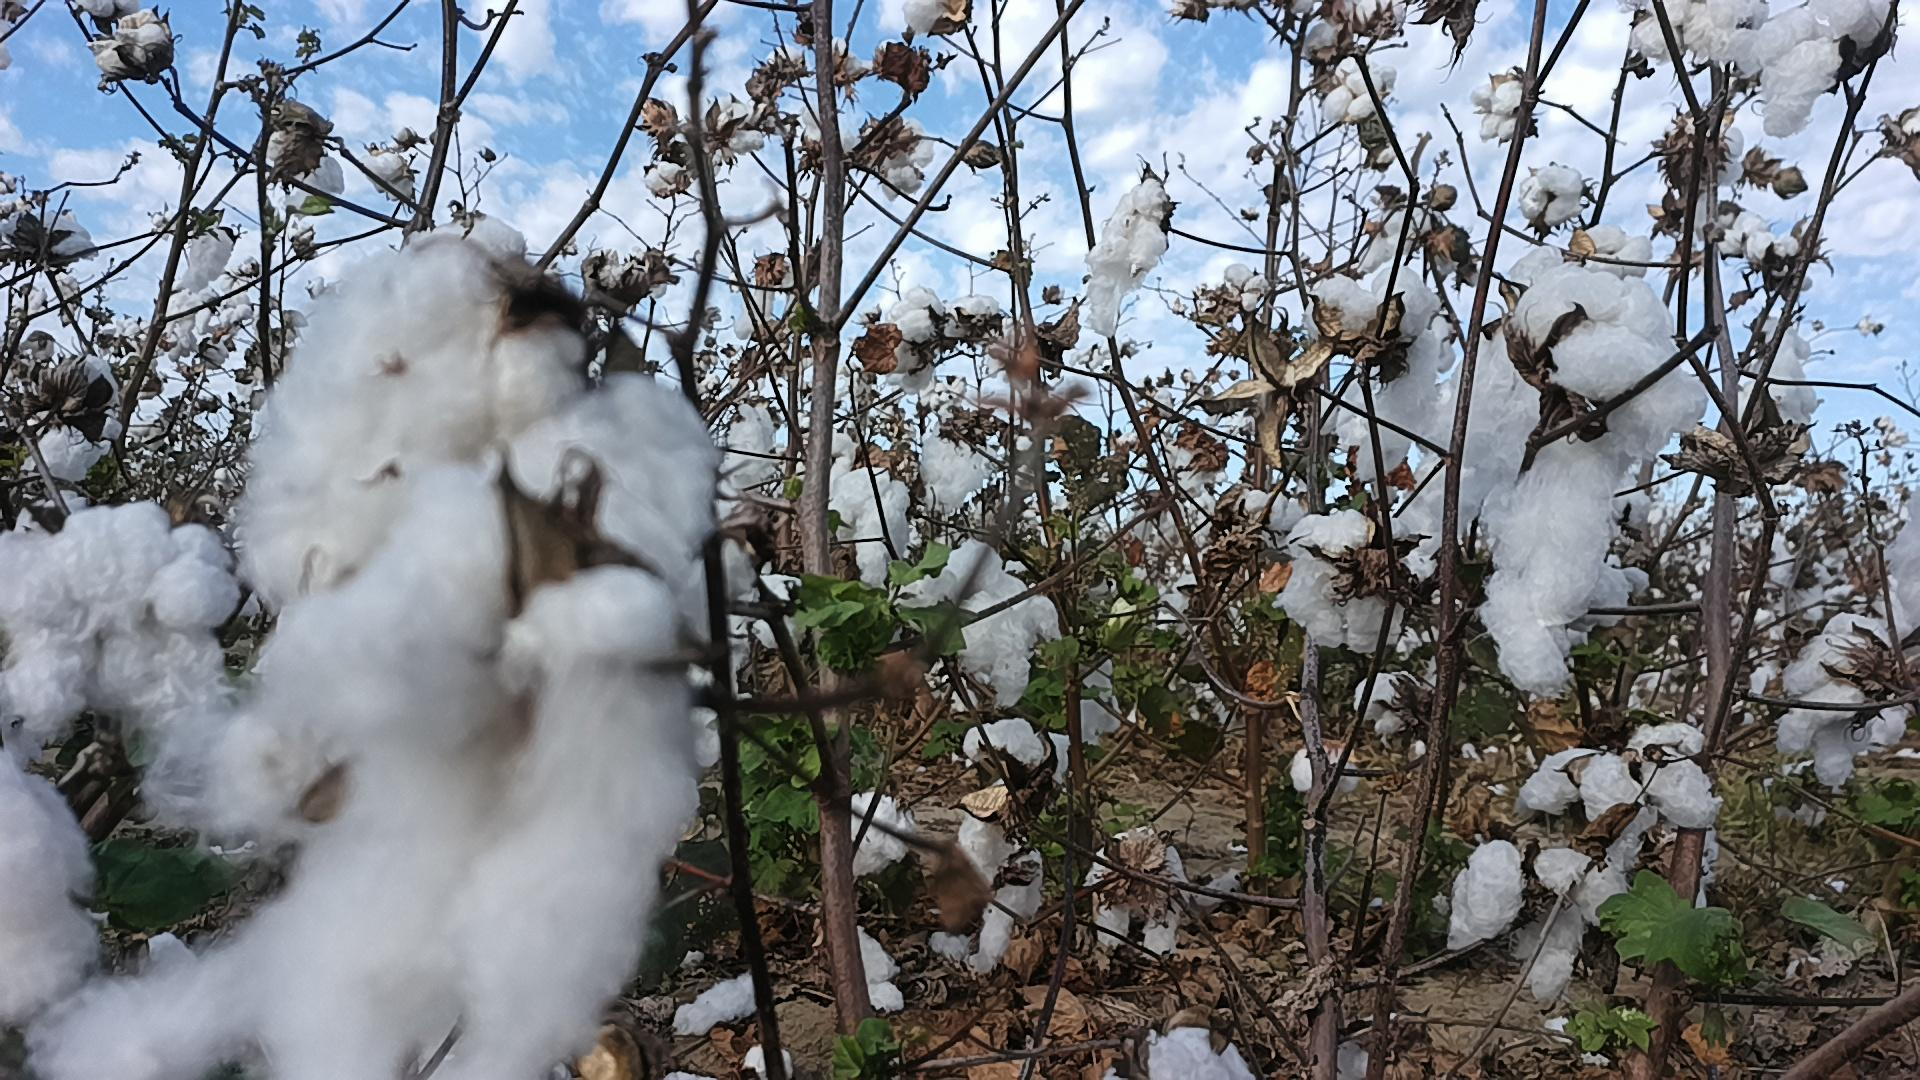cotton_ready: (30, 376, 719, 1080), (256, 468, 705, 1080), (239, 216, 599, 608), (1482, 265, 1710, 695), (0, 498, 239, 742), (1412, 244, 1567, 578), (1522, 719, 1722, 872), (1303, 262, 1436, 481), (893, 541, 1067, 704), (0, 745, 99, 1029), (1447, 840, 1605, 1005), (1726, 0, 1895, 144), (1778, 608, 1908, 790), (932, 819, 1047, 973), (1282, 513, 1408, 650), (884, 281, 1002, 396), (1087, 182, 1168, 336), (32, 353, 127, 485), (1088, 836, 1188, 955), (831, 448, 910, 591), (1737, 320, 1822, 443), (731, 571, 811, 700), (1621, 0, 1766, 65), (839, 116, 935, 202), (1098, 1029, 1258, 1080), (963, 716, 1073, 782), (918, 425, 990, 517), (258, 132, 344, 208), (411, 211, 530, 264), (1350, 669, 1435, 742), (88, 12, 170, 87), (1884, 484, 1920, 654), (844, 793, 916, 876), (0, 208, 100, 262), (1571, 564, 1652, 630), (674, 971, 758, 1034), (723, 402, 782, 488), (856, 928, 905, 1017), (173, 227, 235, 293)
